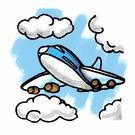aeroplane: (19, 43, 126, 95)
